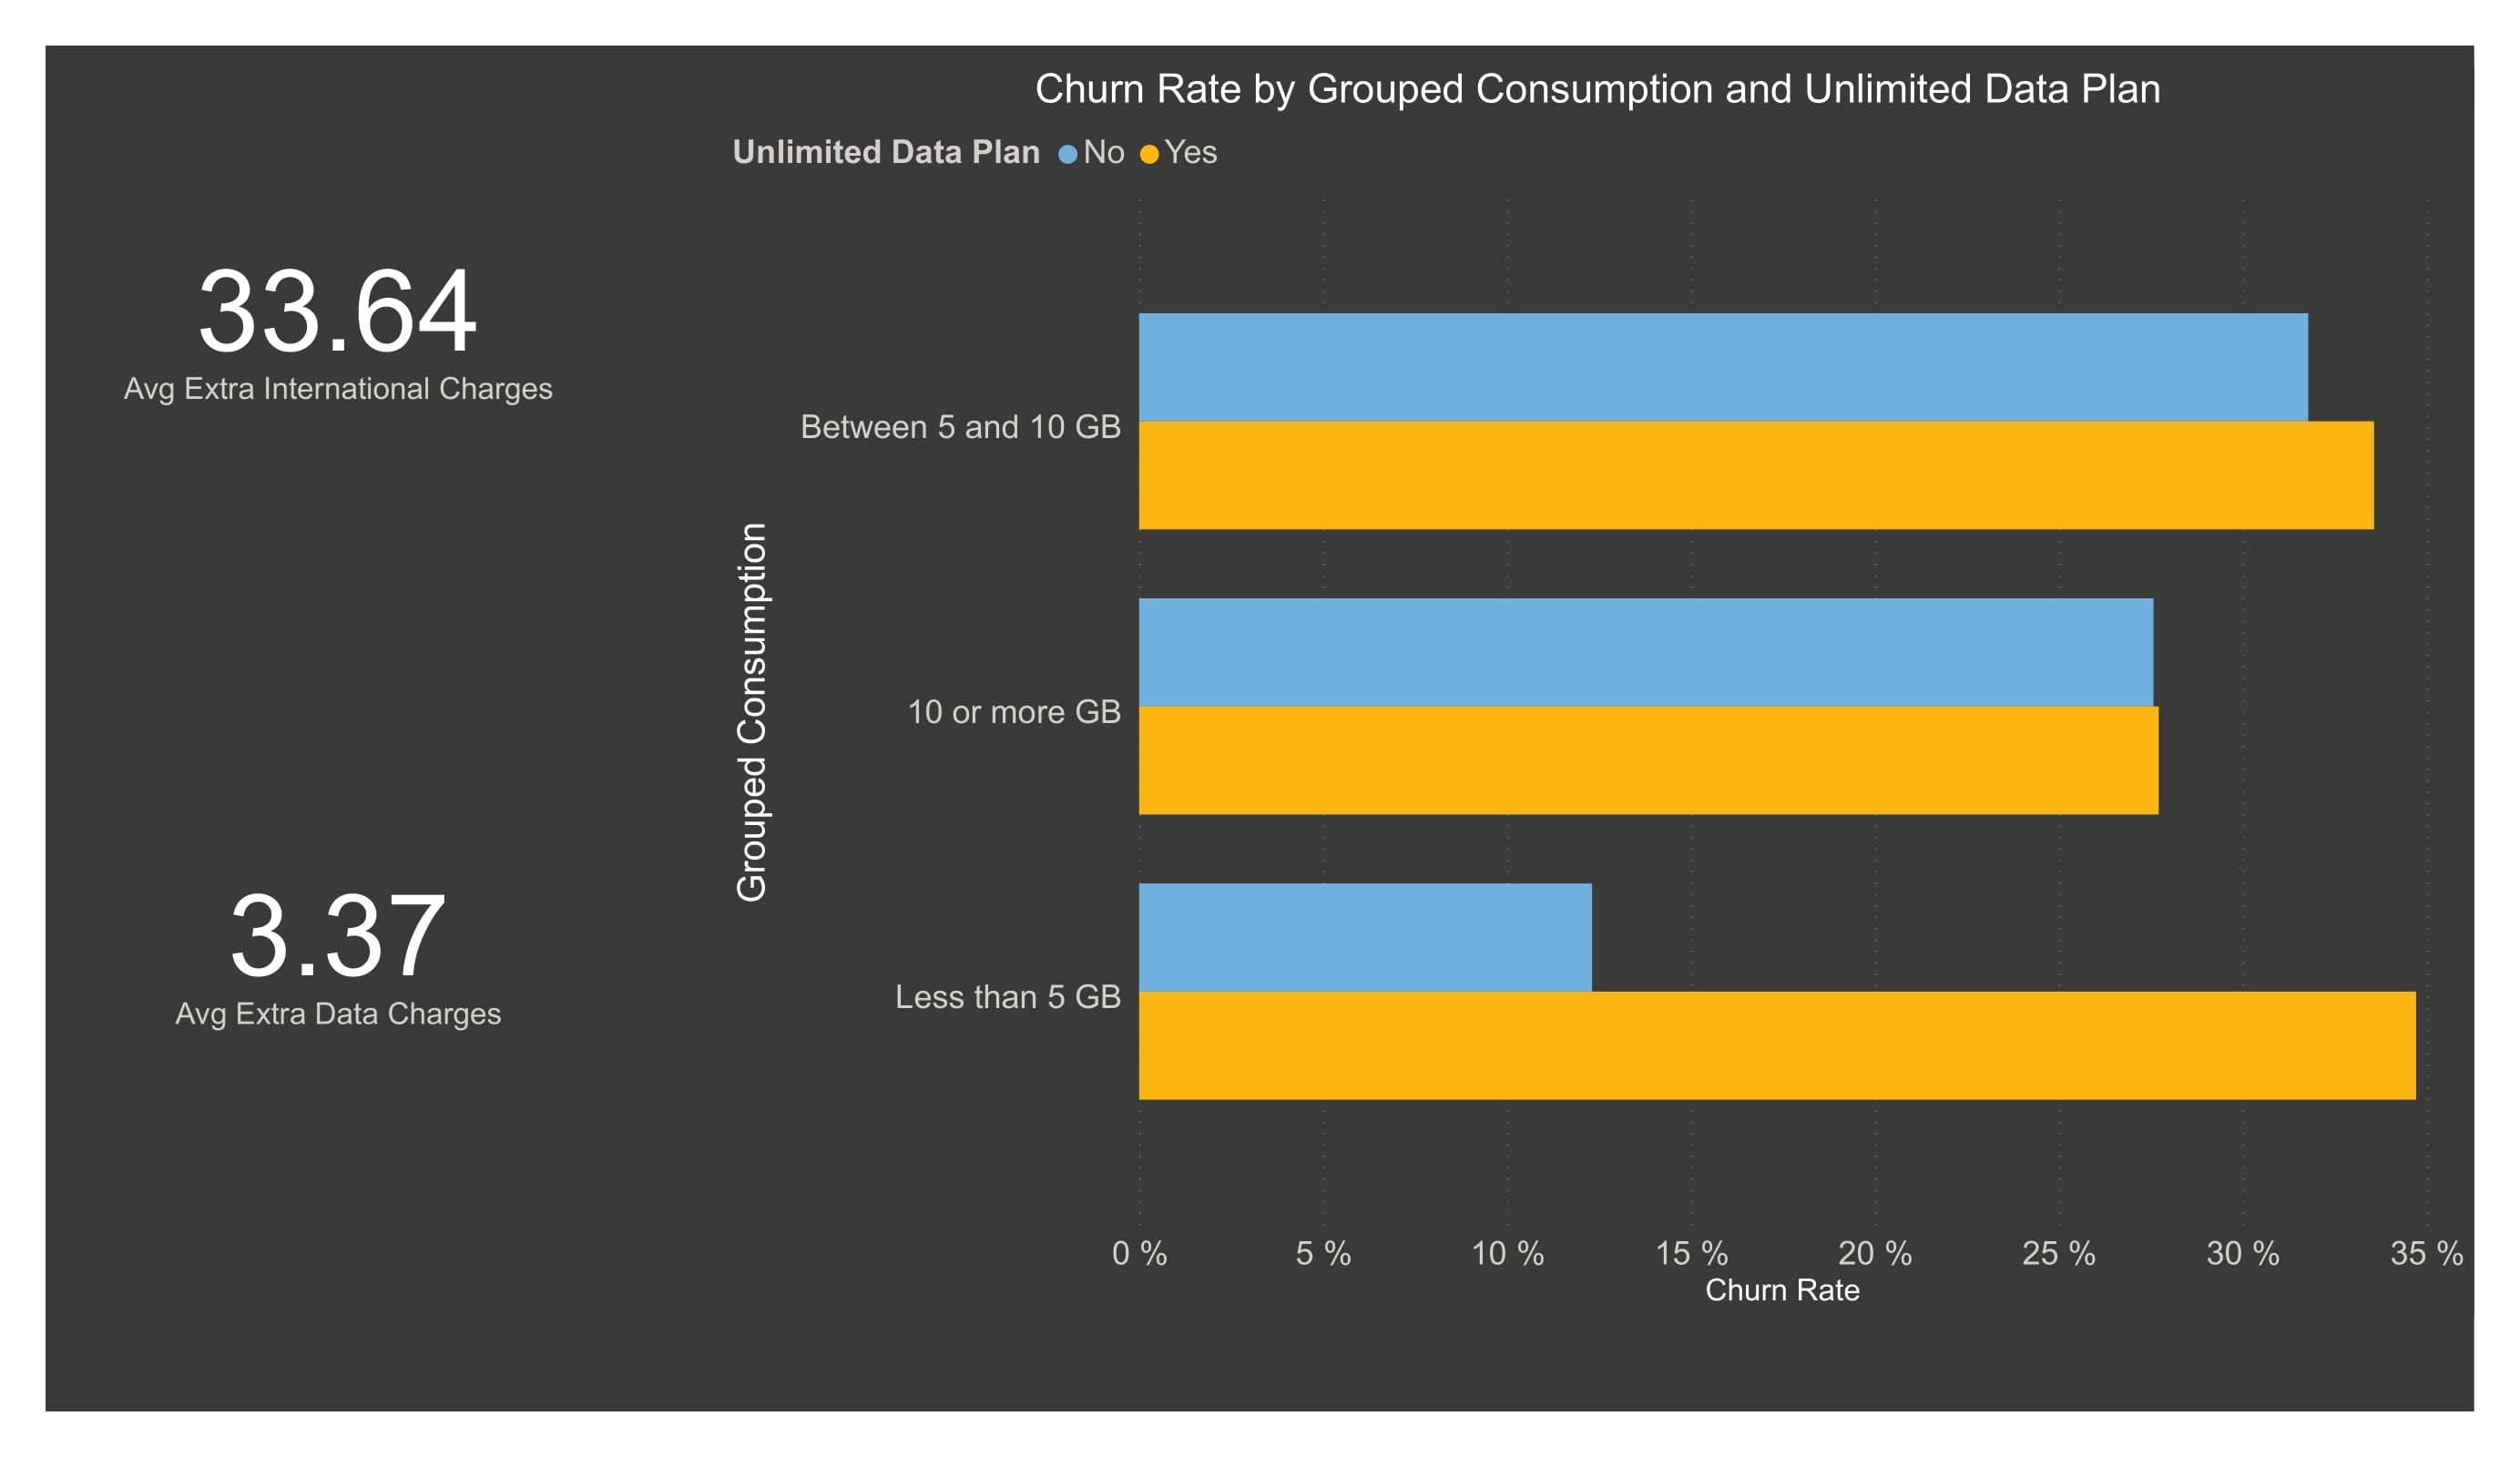

The page's visual inventory and layout, read from the dashboard file:
{"tool":"powerbi","page":{"name":"Extra Charges","canvas":[1280,720],"ordinal":8},"visuals":[{"type":"clusteredBarChart","fields":{"Category":["Databel - Data.Grouped Consumption"],"Y":["Databel - Data.Churn Rate"],"Series":["Databel - Data.Unlimited Data Plan"]},"box":[357.3,10.9,922.7,658.6],"z":0},{"type":"card","fields":{"Values":["Databel - Data.Avg Extra International Charges"]},"box":[0,10.7,309.3,264.9],"z":1000},{"type":"card","fields":{"Values":["Databel - Data.Avg Extra Data Charges"]},"box":[0,276,309,394],"z":2000}]}

Visuals, with their boxes on the page's 1280x720 design canvas (x1, y1, x2, y2). These are canvas units, not pixel positions in the 2520x1457 screenshot, which may show the page scaled, cropped or inside an application window:
clusteredBarChart - Databel - Data.Grouped Consumption x Databel - Data.Churn Rate: 357:11:1280:670
card - Databel - Data.Avg Extra International Charges: 0:11:309:276
card - Databel - Data.Avg Extra Data Charges: 0:276:309:670
